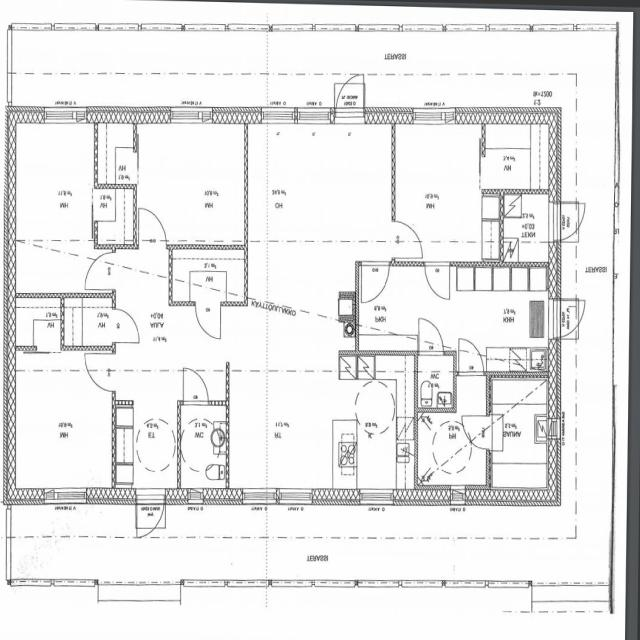door: (549, 300, 589, 338), (336, 70, 364, 124), (136, 490, 164, 543), (549, 204, 588, 240), (84, 252, 115, 290), (138, 207, 166, 249), (362, 262, 390, 304), (392, 221, 423, 258), (85, 354, 115, 391), (461, 415, 490, 449), (425, 262, 450, 300), (459, 338, 484, 376), (112, 309, 140, 342), (419, 318, 444, 354), (184, 368, 208, 405), (196, 302, 220, 339)
